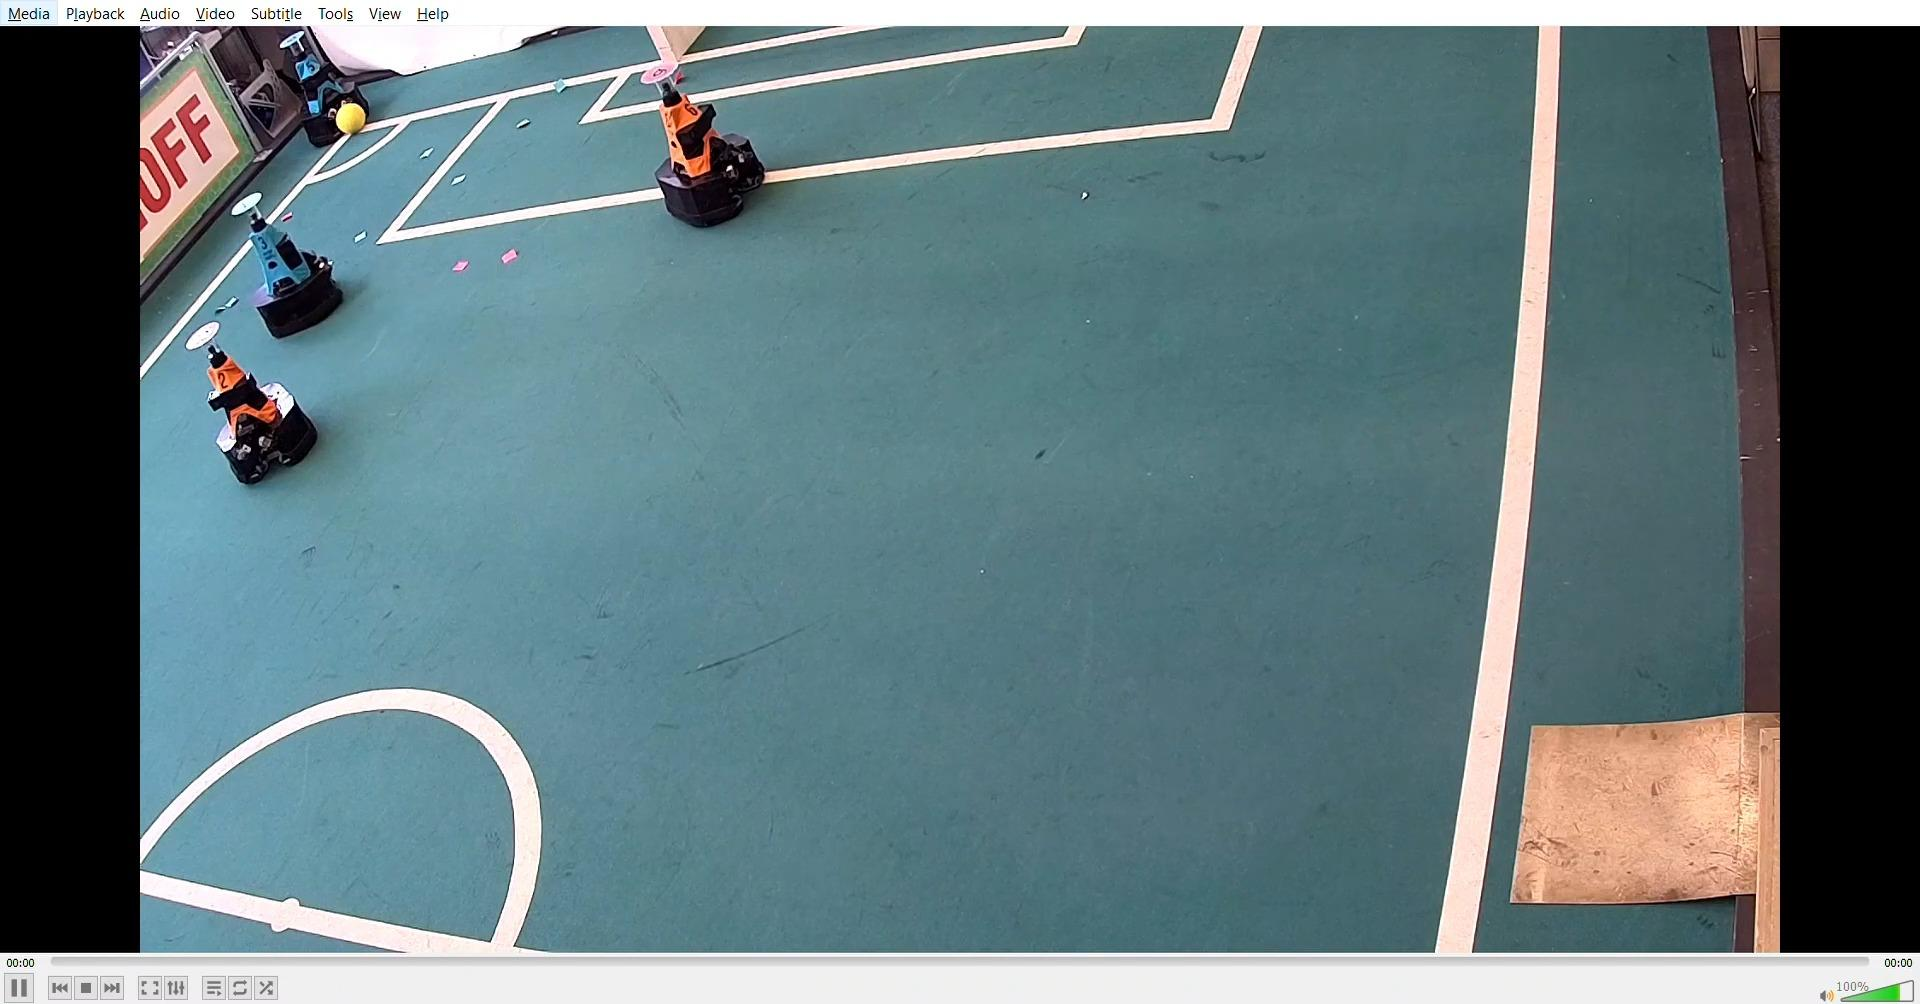Ball: (329, 100, 373, 135)
Team_Blue: (227, 189, 347, 330), (277, 32, 377, 147)
Team_Red: (644, 52, 764, 235), (184, 322, 311, 485)
